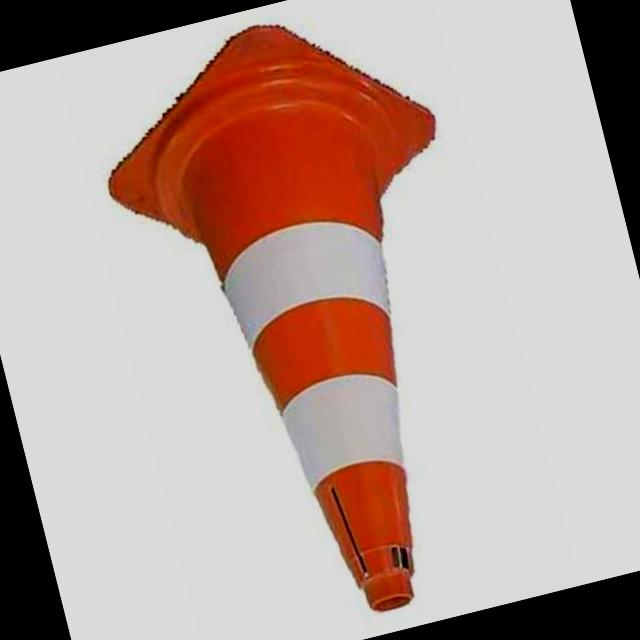cone: (105, 28, 528, 640)
